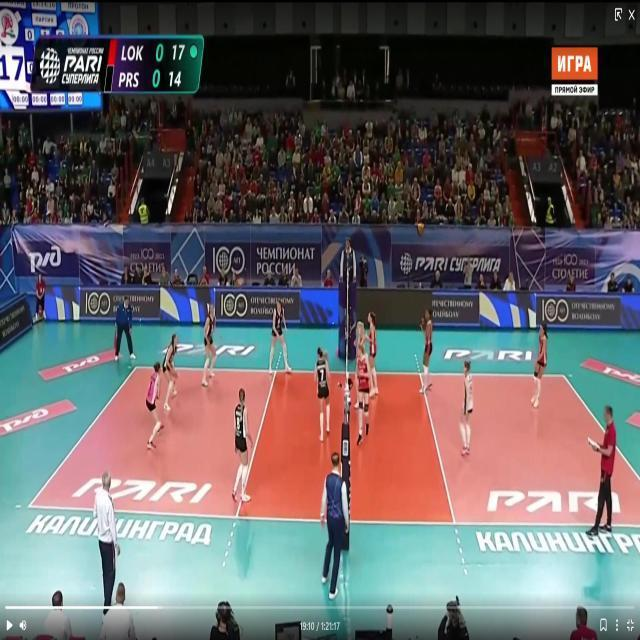volleyball: (416, 223, 425, 236)
